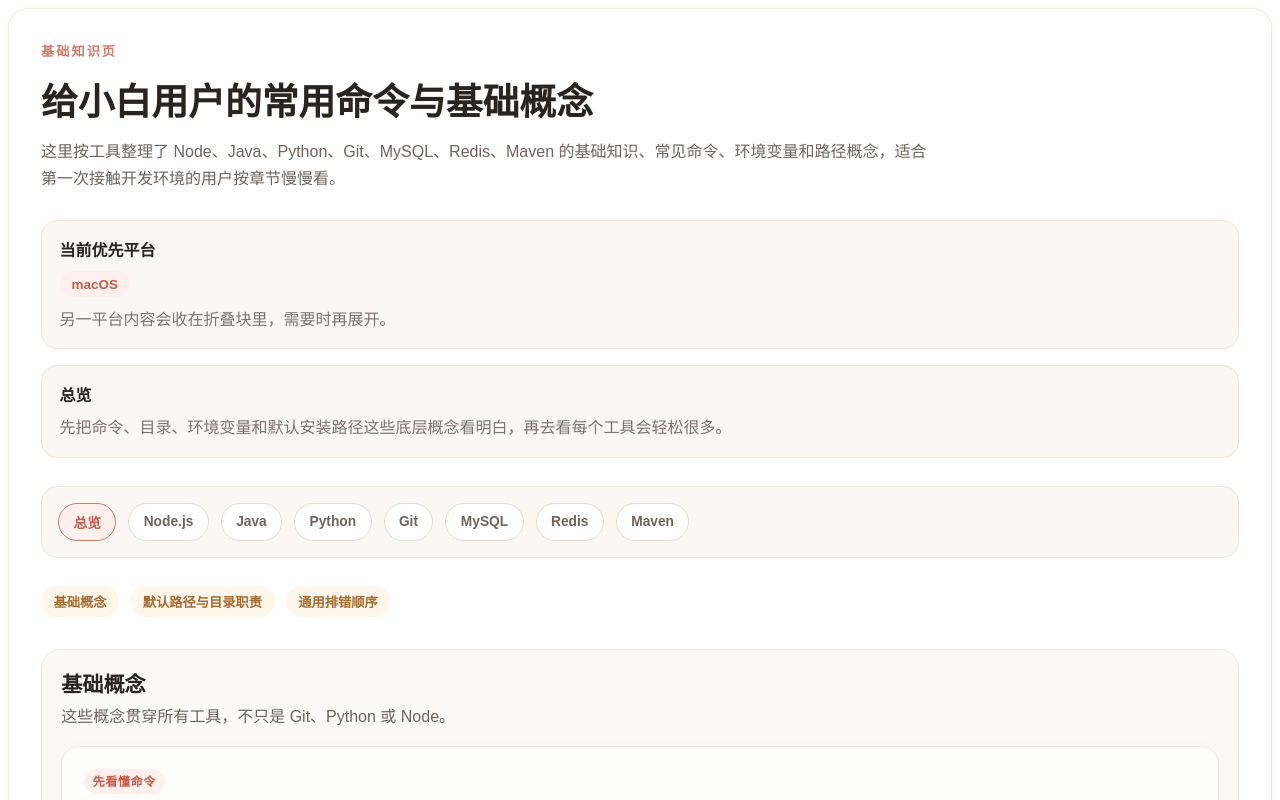
BeginnerGuidePanel › switches tools and updates the visible sections
What coordinates should you click on to do the following:
click the button "Git"
I would click on:
 (408, 522)
Its box is 384,503 -> 433,541.
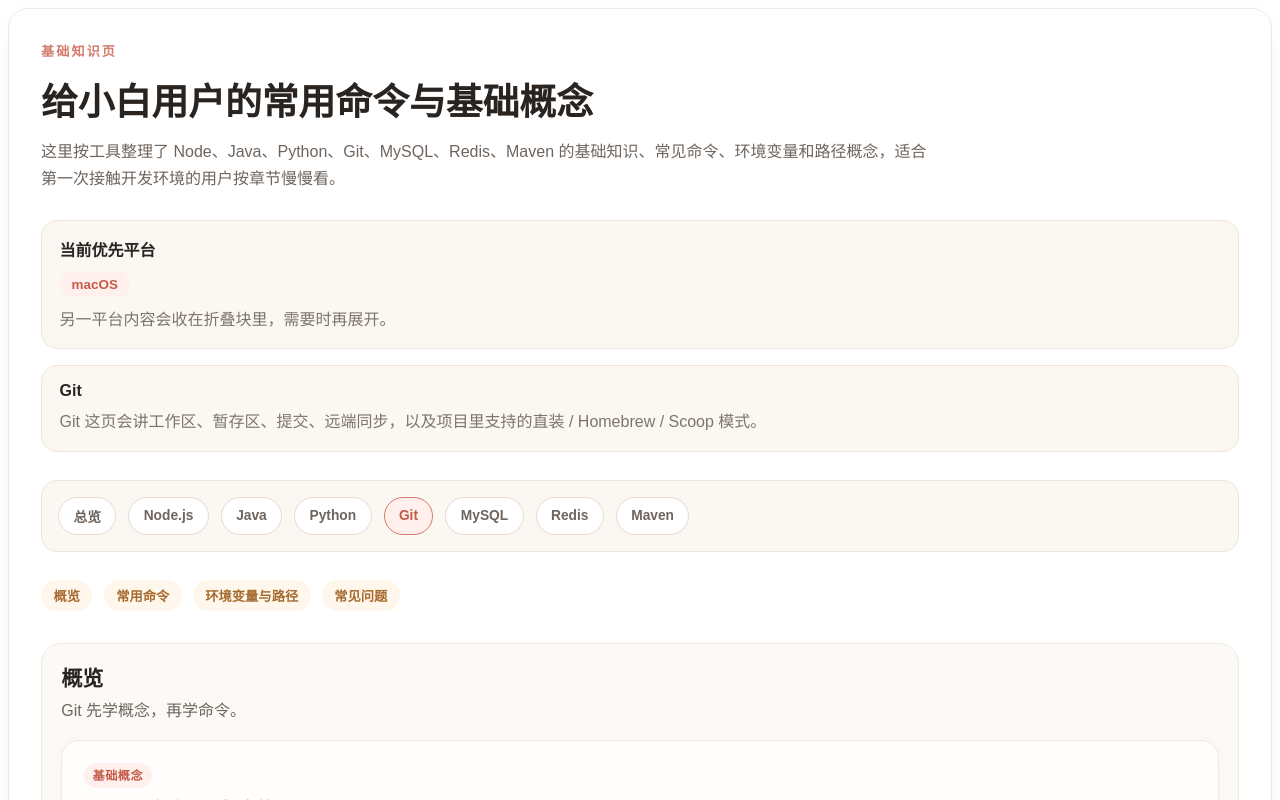
Check: the link "环境变量与路径" is shown, box 193,580 -> 311,611
